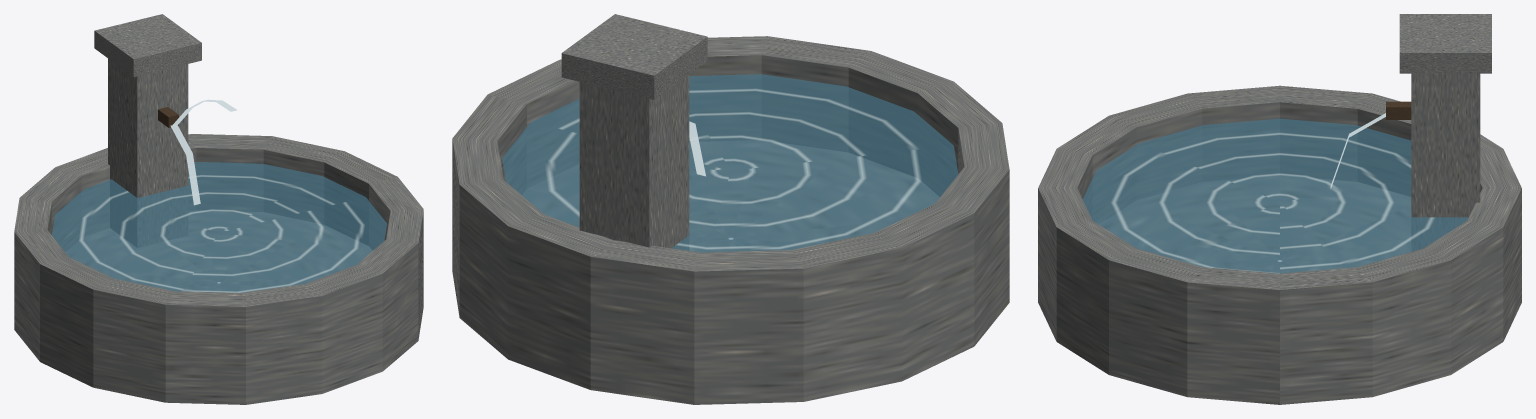
The model's file is brunnen_v2.glb.
The picture shows the model from 3 angles, left to right: view 1: azimuth 30°, elevation 25°; view 2: azimuth 150°, elevation 25°; view 3: azimuth 270°, elevation 25°; orthographic projection. The views are drawn at different scales.
Parts seen in each view (by area): view 1: V2; view 2: V2; view 3: V2.
Part boxes in pixels (x1,y1,x2,y2): V2: (14,14,423,404); V2: (452,14,1009,404); V2: (1038,14,1521,404).
Size of the model in its own units: 2.1 by 1.29 by 2.1.
Materials: 2 (2 with a texture image).
